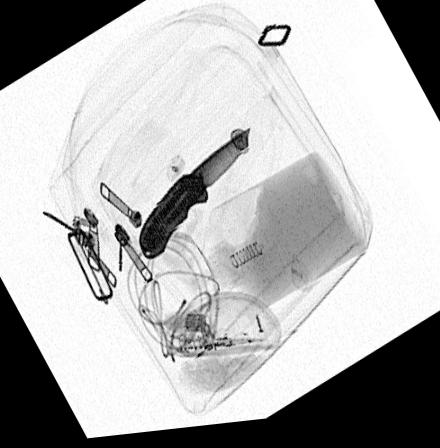Knife: (136, 132, 251, 265)
